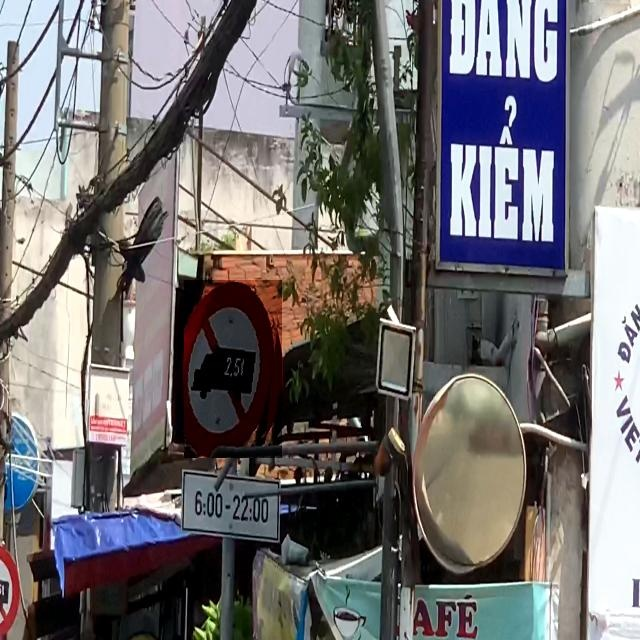bien_cam: (184, 280, 282, 458)
